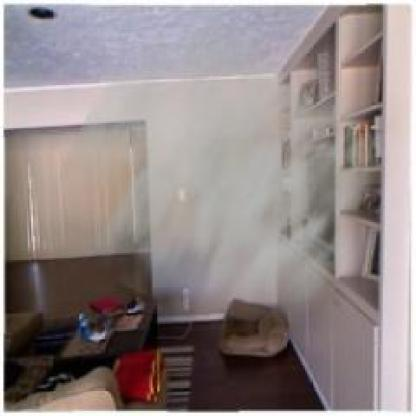Smoke: (53, 4, 401, 369)
